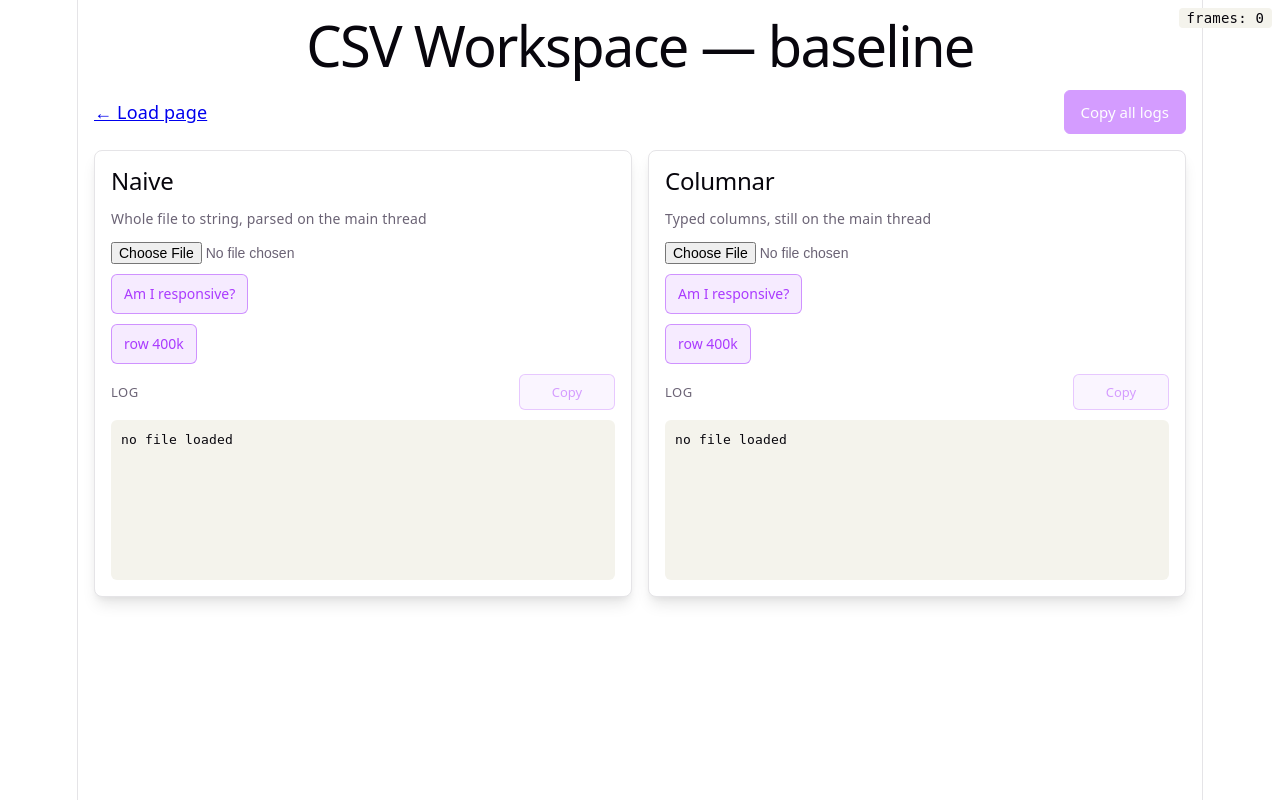
Scenario: BenchPage › shows Copy failed when no copy route works
The width and height of the screenshot is (1280, 800).
Click the button "Am I responsive?" below "Naive": (180, 294) [111,274,248,314]
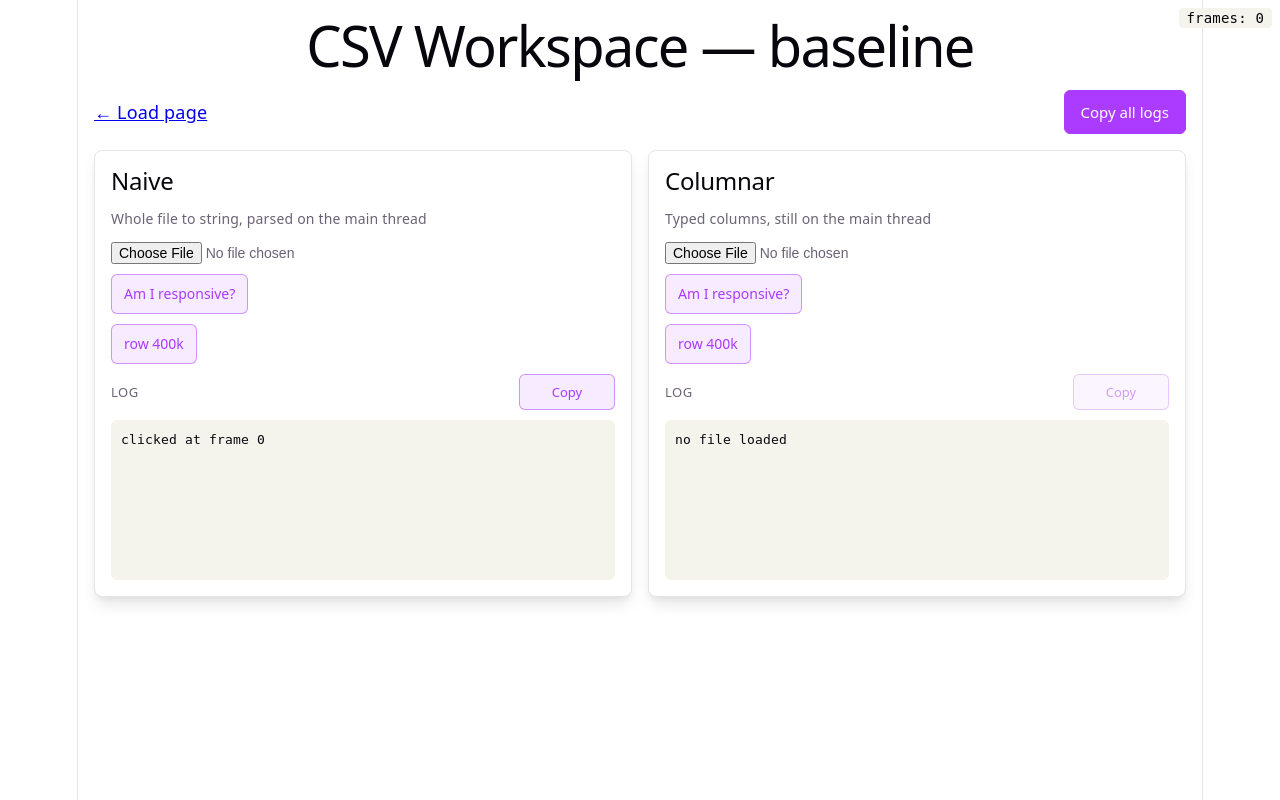
Click the 1st button "Copy": (567, 392) [519,374,615,410]
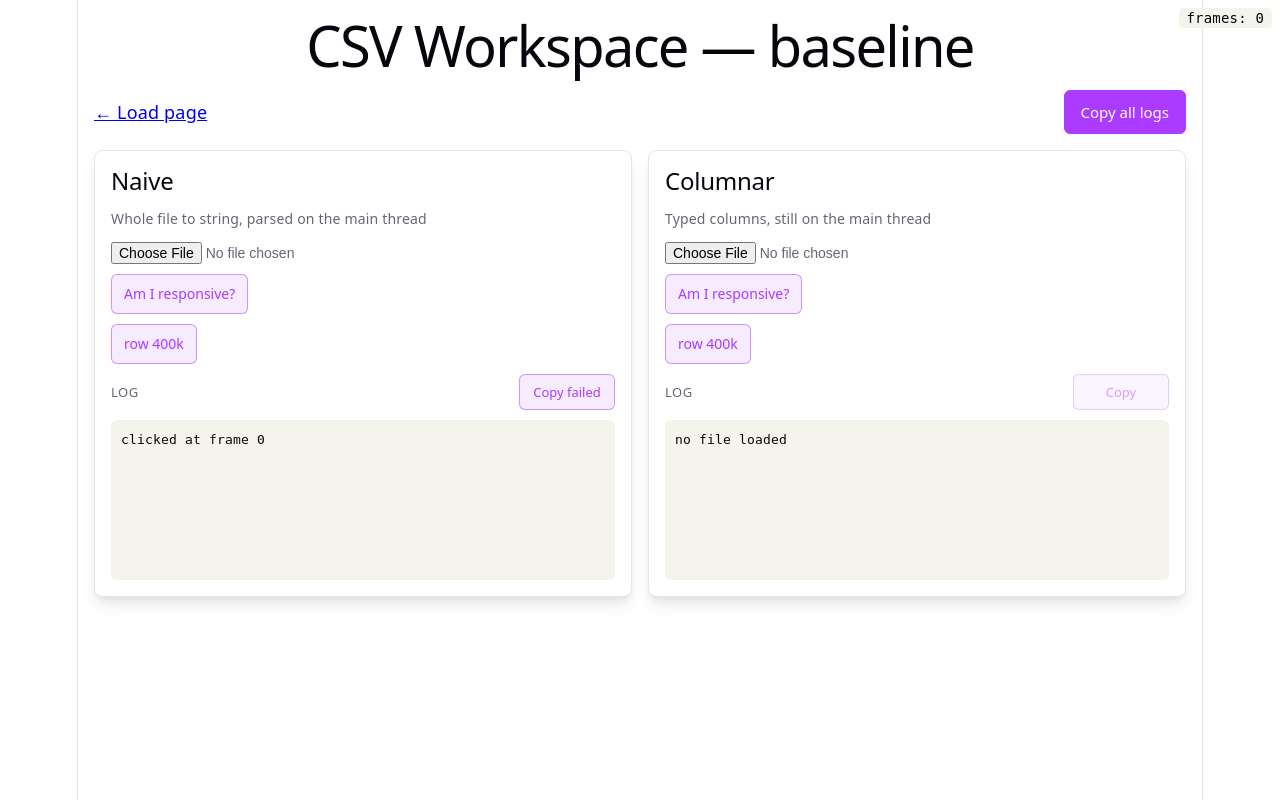
Expected: the button "Copy failed" is shown, [519,374,615,410]
